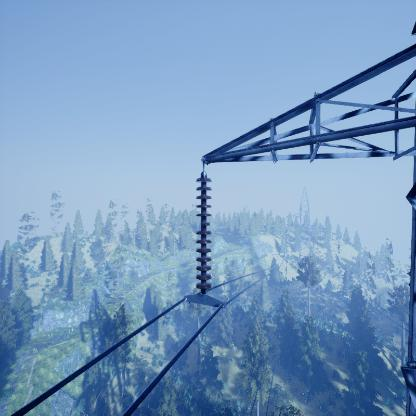insulator: (194, 173, 214, 295)
